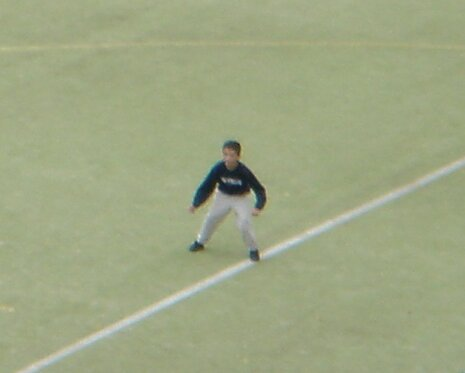person: (185, 136, 275, 264)
